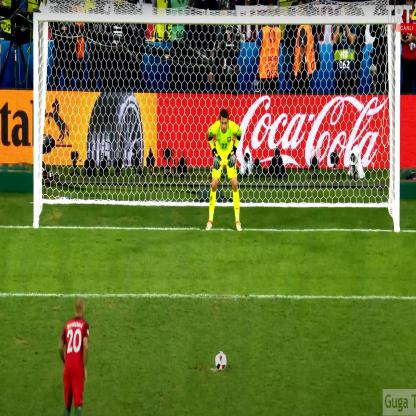penalty kick: (60, 4, 268, 410)
